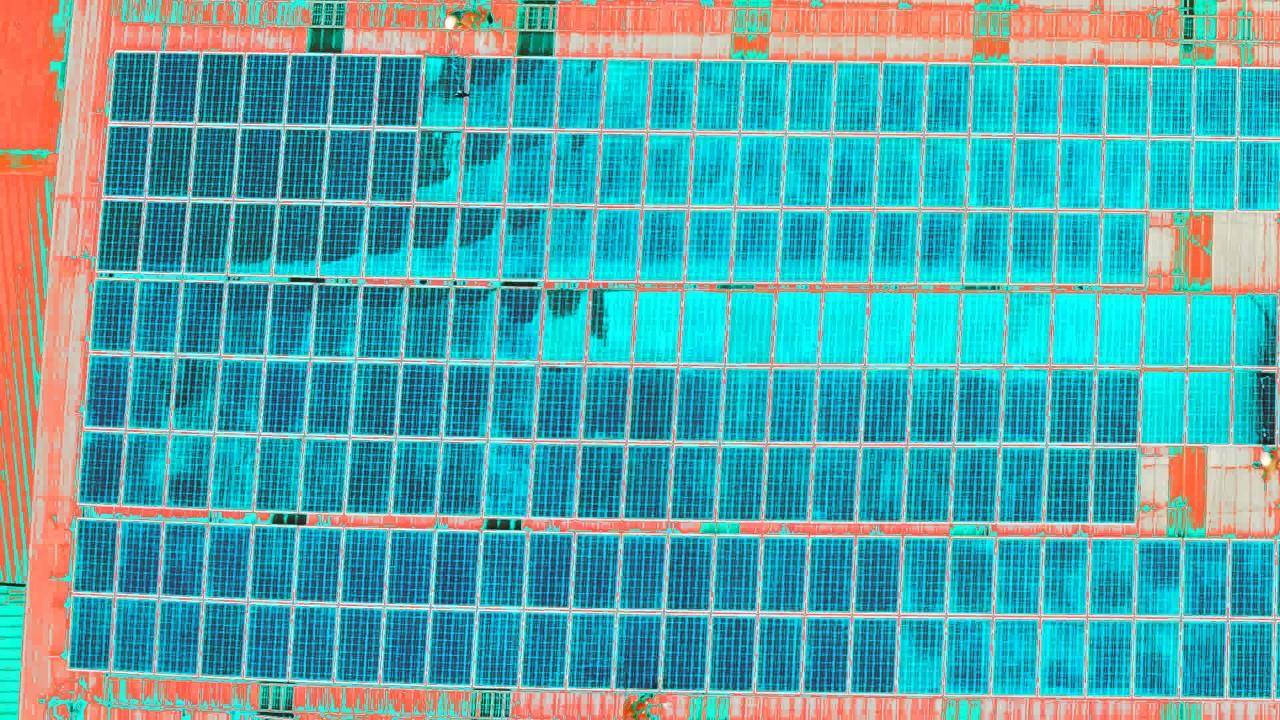clean: (117, 55, 405, 202), (104, 201, 230, 269)
dirty: (422, 57, 1280, 214), (899, 544, 1280, 703), (543, 289, 1279, 370), (553, 208, 1147, 284), (233, 199, 547, 279), (1140, 366, 1280, 440)
semi: (73, 515, 893, 686), (86, 275, 540, 517), (541, 368, 1133, 521)
